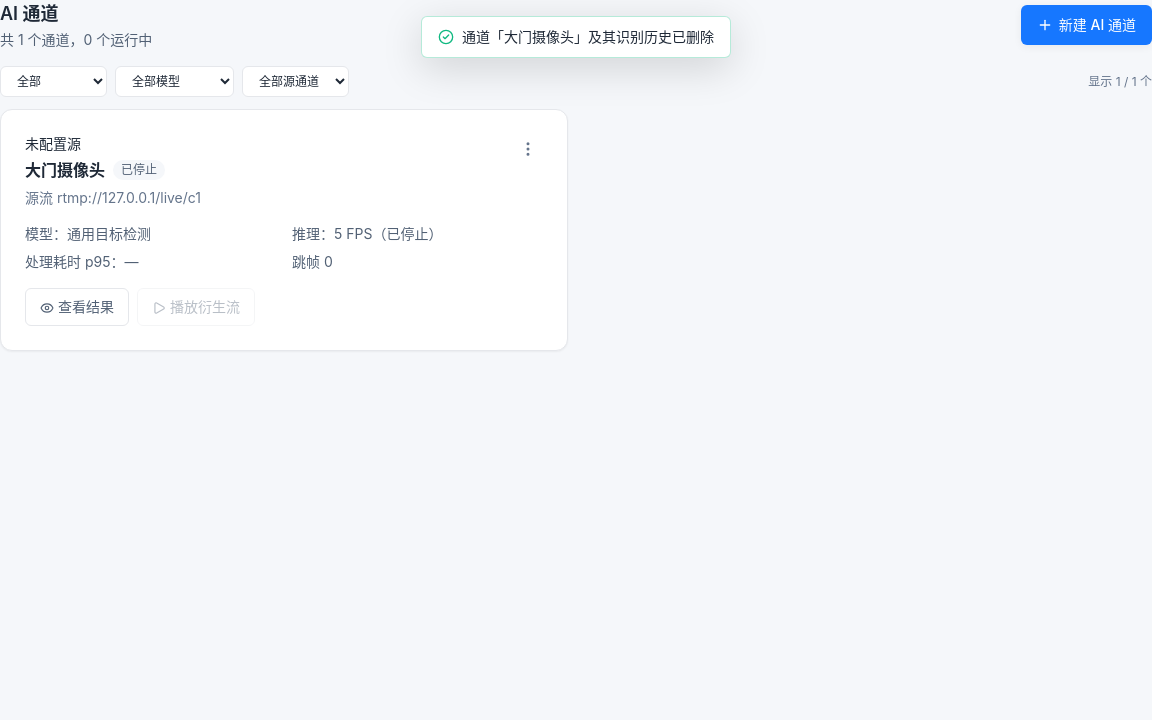
Test case: AiChannelsPage › 点击"编辑"打开向导且回填该通道数据
Click the button named "更多操作".
click(528, 149)  # box [513, 134, 543, 164]
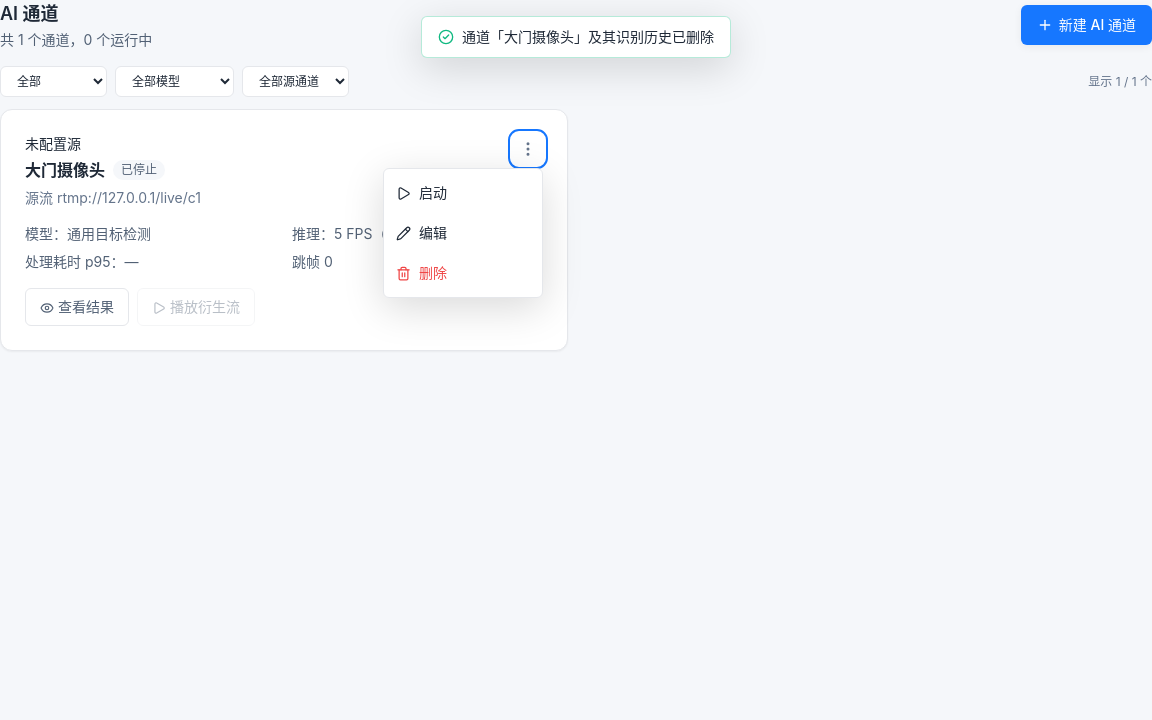
Click the button "编辑".
click(463, 233)  # box [384, 213, 542, 253]
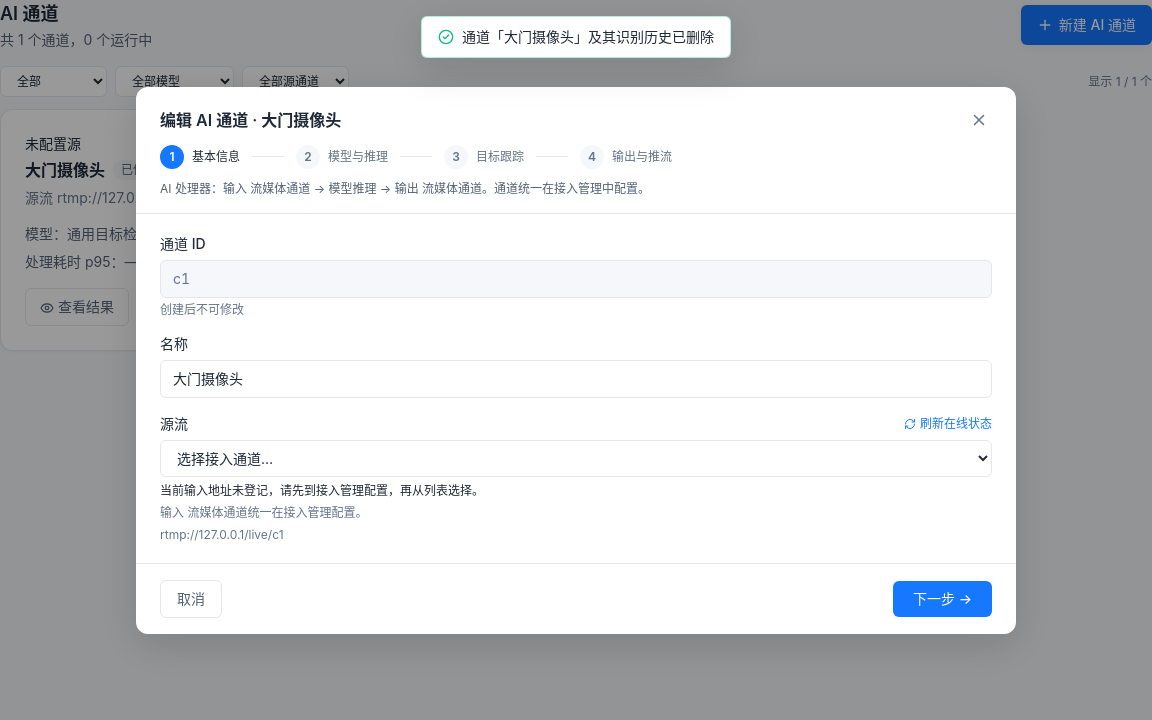
Result: the heading "编辑 AI 通道 · 大门摄像头" is shown at [160, 108, 341, 132]
Result: the field with test id "wizard-id" holds "c1" at [160, 260, 992, 298]
Result: the field with test id "wizard-id" is disabled at [160, 260, 992, 298]
